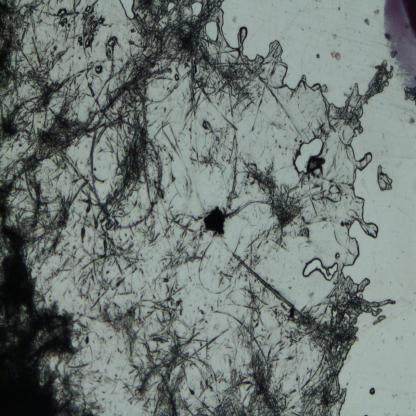Air bubble: (237, 27, 391, 266), (91, 0, 223, 108), (292, 136, 326, 175), (303, 258, 339, 280), (374, 162, 394, 194), (118, 1, 136, 22), (203, 21, 220, 42), (190, 0, 202, 17), (166, 1, 176, 15), (57, 8, 67, 18), (95, 63, 103, 74), (368, 386, 376, 396), (85, 38, 90, 47)
Background material: (0, 177, 97, 416), (97, 258, 205, 414), (289, 270, 394, 412), (209, 284, 290, 415), (87, 111, 168, 237), (0, 0, 59, 147), (0, 96, 94, 178), (241, 162, 311, 244), (195, 113, 242, 203), (221, 53, 270, 119), (211, 247, 289, 288), (161, 203, 205, 267), (55, 0, 105, 50), (314, 177, 344, 222), (323, 100, 361, 132), (402, 85, 416, 99), (329, 50, 342, 61), (365, 19, 370, 25)
Fragment: (204, 205, 226, 236)
Pen: (381, 0, 416, 92)
